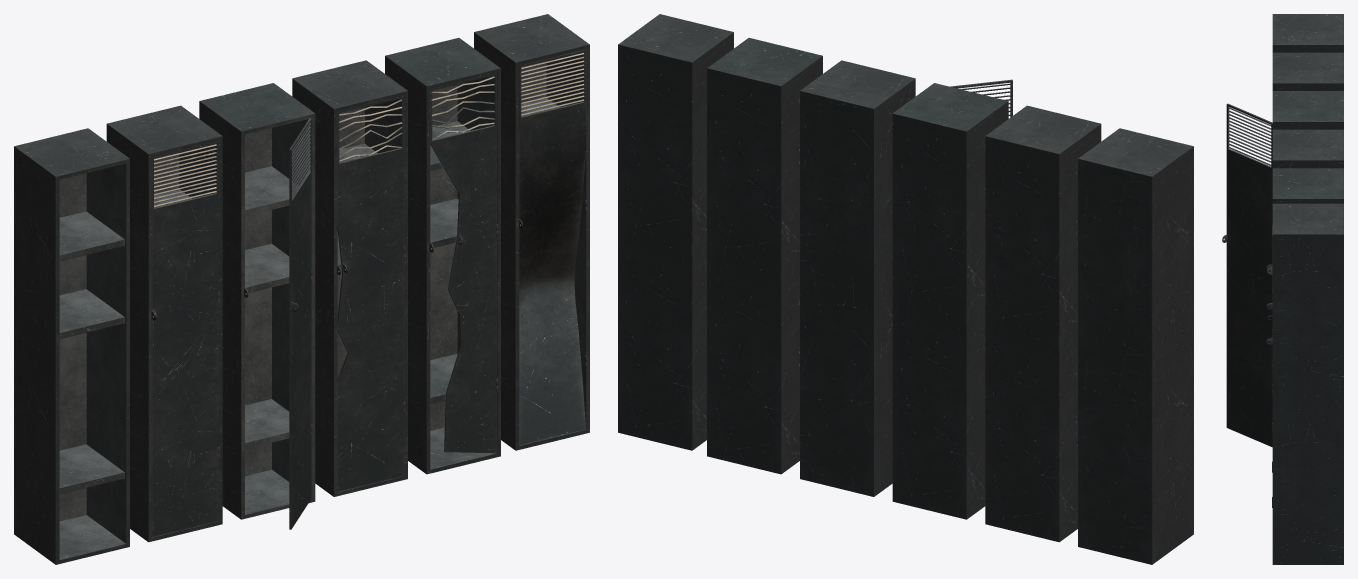
The model's file is lockers.glb.
The picture shows the model from 3 angles, left to right: view 1: azimuth 30°, elevation 25°; view 2: azimuth 150°, elevation 25°; view 3: azimuth 270°, elevation 25°; orthographic projection. The views are drawn at different scales.
Parts seen in each view (by area): view 1: Object_2, Object_4, Object_3, Object_5, Object_6, Object_7; view 2: Object_2, Object_4, Object_3, Object_5, Object_6, Object_7; view 3: Object_7, Object_4, Object_5, Object_2, Object_3, Object_6.
Part boxes in pixels (<box>): Object_2: <box>14,128,129,564</box>; Object_4: <box>199,83,315,529</box>; Object_3: <box>106,105,222,542</box>; Object_5: <box>292,60,407,496</box>; Object_6: <box>385,38,500,474</box>; Object_7: <box>474,14,589,450</box>; Object_2: <box>1078,128,1193,564</box>; Object_4: <box>892,79,1012,519</box>; Object_3: <box>985,105,1101,542</box>; Object_5: <box>800,60,915,496</box>; Object_6: <box>707,38,822,474</box>; Object_7: <box>618,14,733,450</box>; Object_7: <box>1266,203,1343,564</box>; Object_4: <box>1222,91,1343,447</box>; Object_5: <box>1266,129,1343,433</box>; Object_2: <box>1272,14,1343,52</box>; Object_3: <box>1272,52,1343,90</box>; Object_6: <box>1266,168,1343,472</box>.
Size of the model in its own units: 288 by 201 by 66.73.
6 materials, 6 textured.
